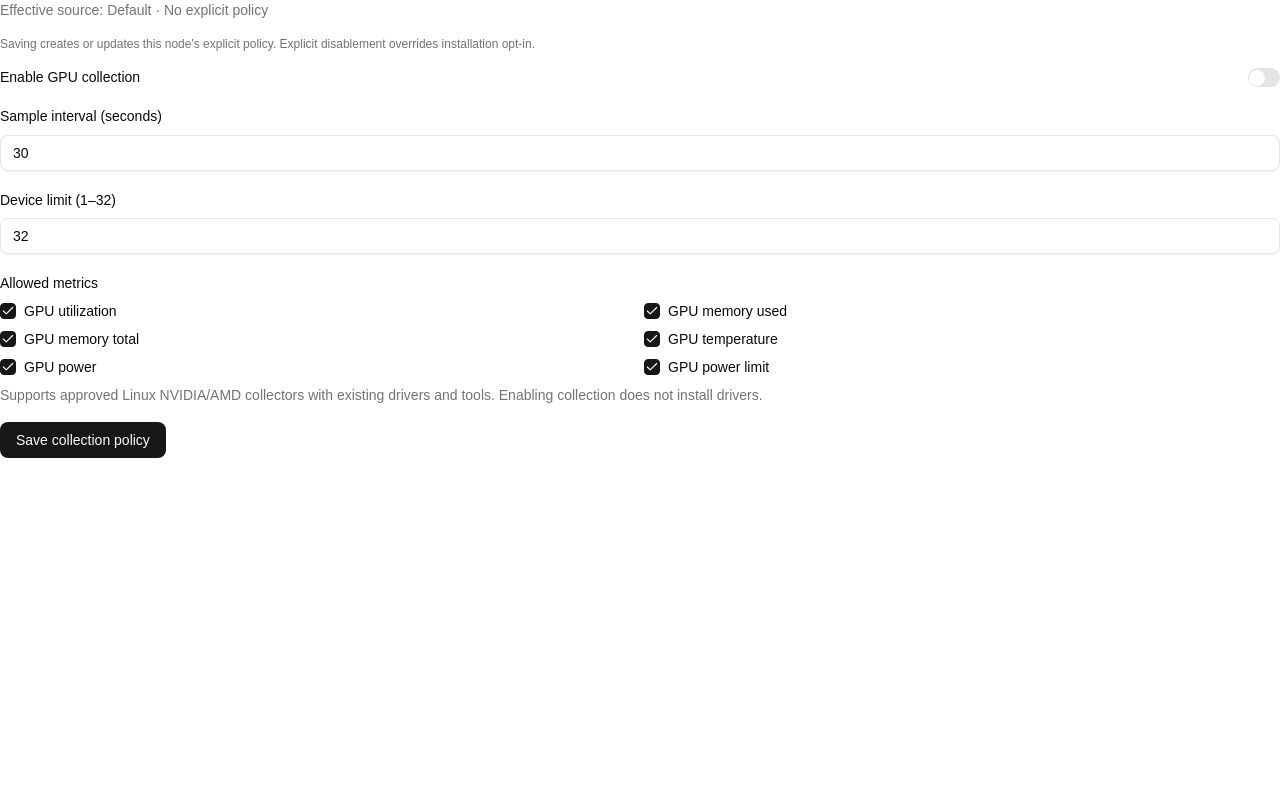
Test: GPU administrative collection and inventory › shows conflicts and rejects invalid numeric policies before a request
Replace the text in the number field labelled "Sample interval (seconds)" with "4": (640,152) x1=0 y1=134 x2=1279 y2=170
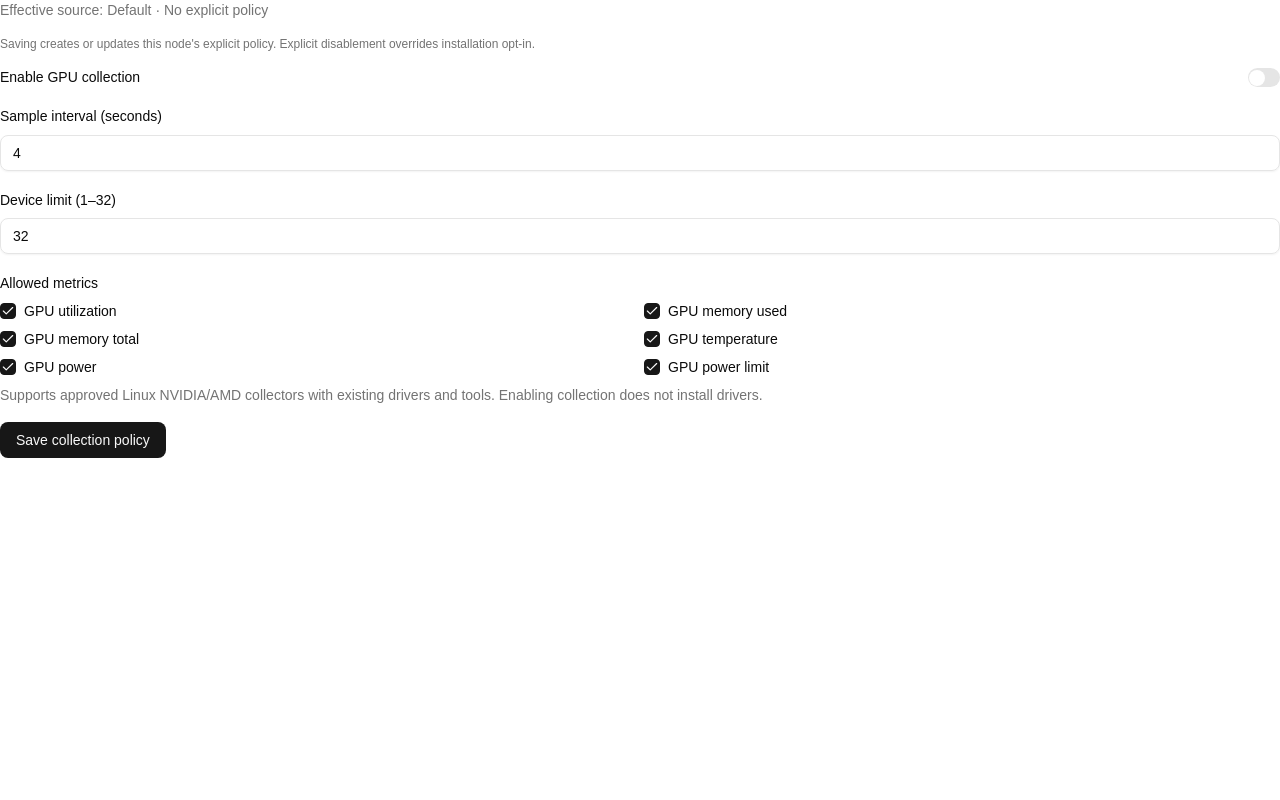
Submit the form named "Save collection policy", box x1=0 y1=0 x2=1279 y2=458
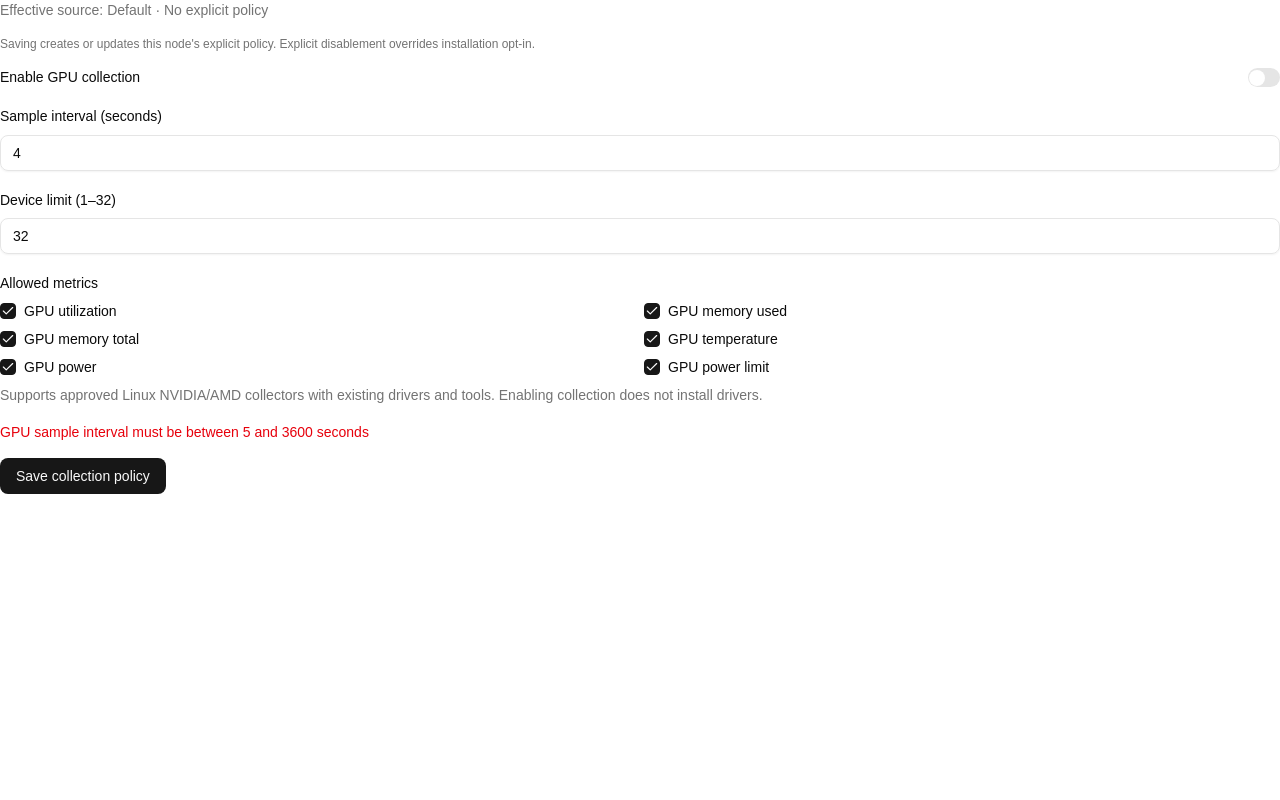
Now the message shows "5 and 3600", box x1=0 y1=424 x2=369 y2=440
Replace the text in the number field labelled "Sample interval (seconds)" with "5": (640,152) x1=0 y1=134 x2=1279 y2=170
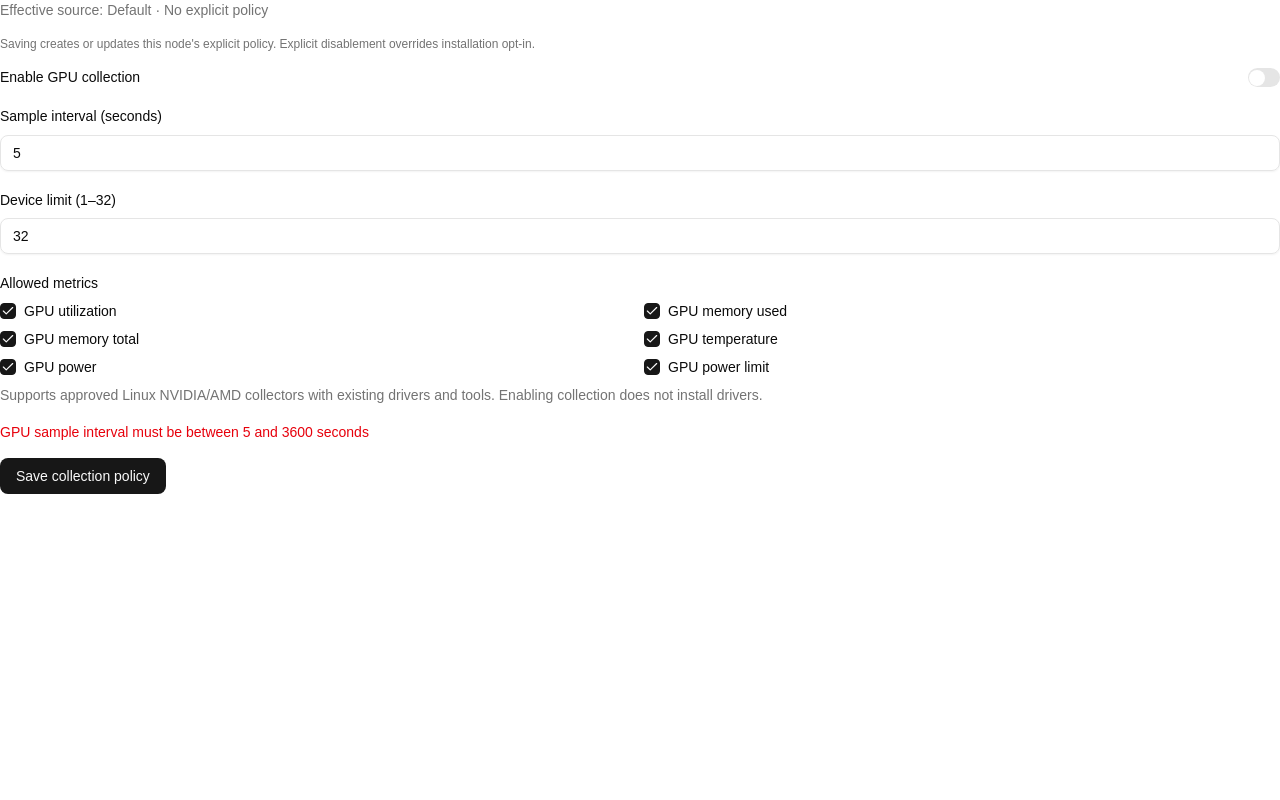
Click the button "Save collection policy": (83,476) x1=0 y1=458 x2=166 y2=494
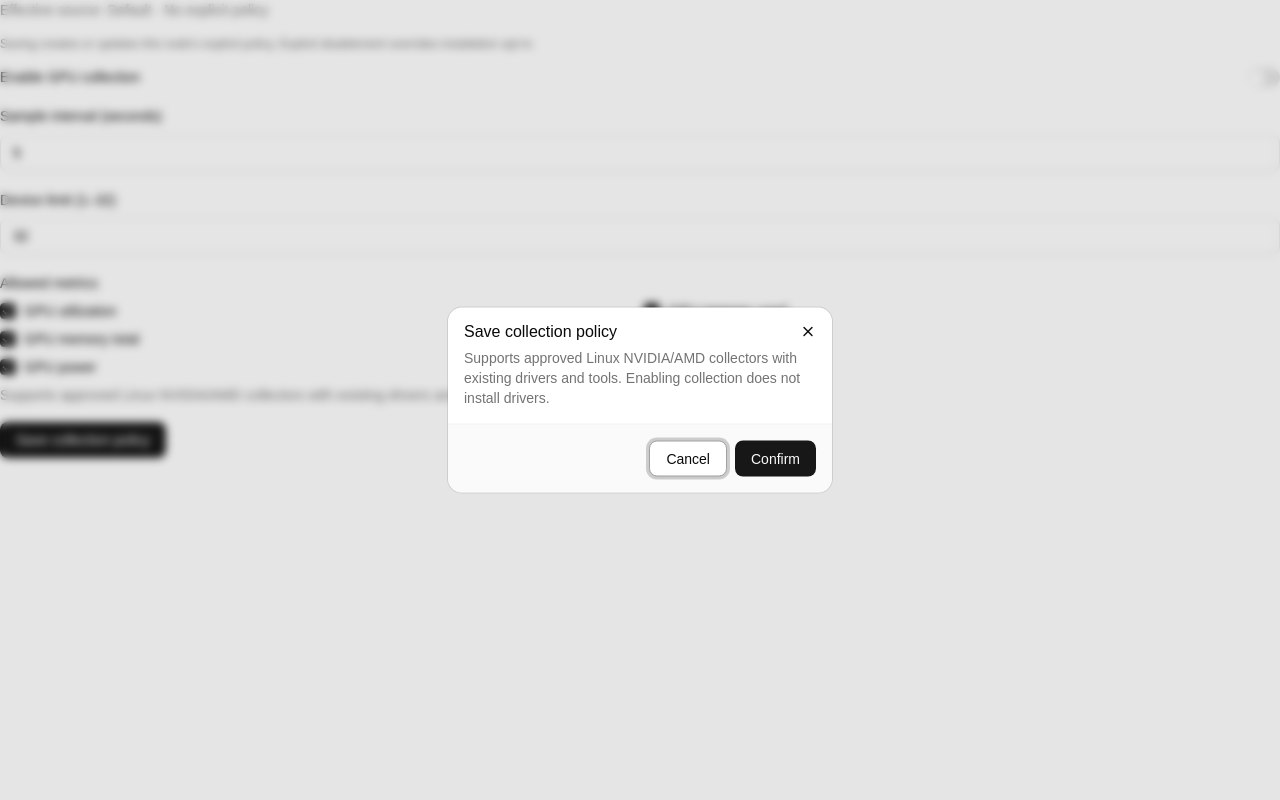
Click the button "Confirm": (776,458) x1=735 y1=440 x2=816 y2=476
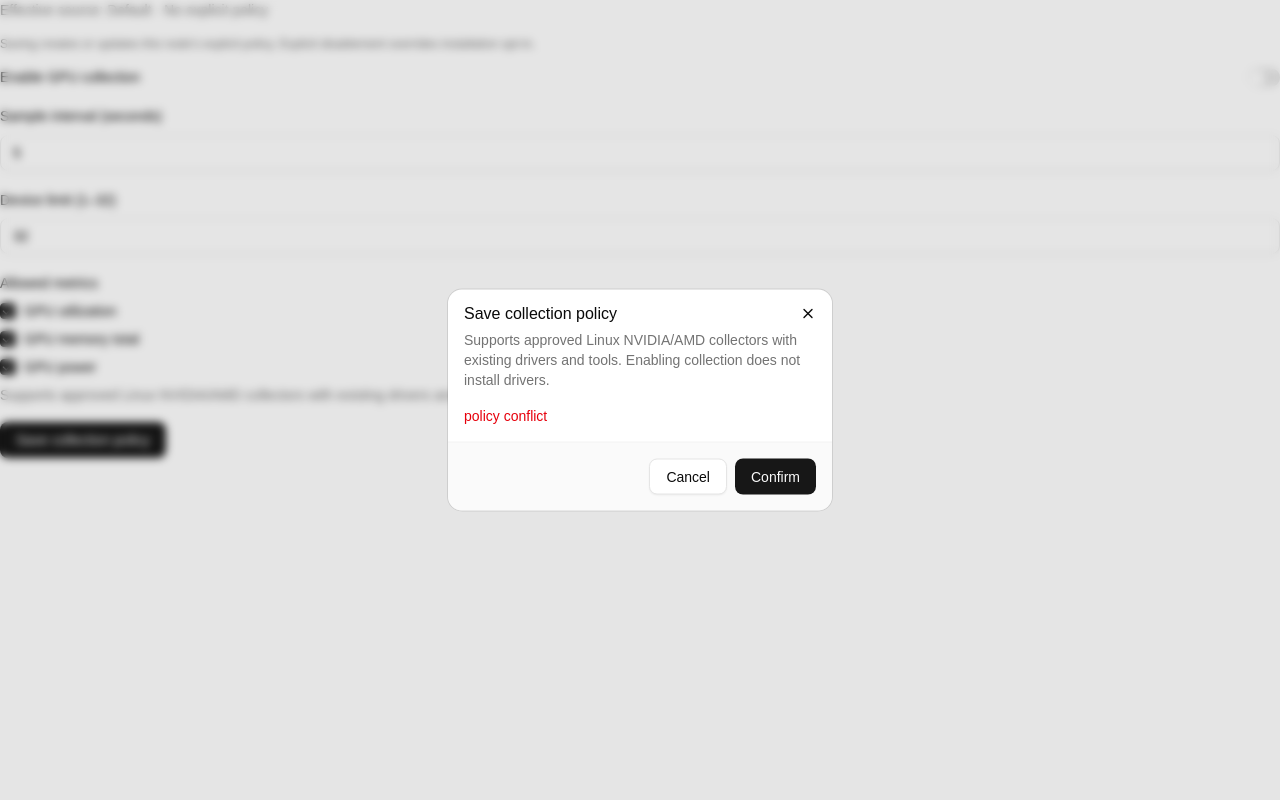
Now the message reads "policy conflict", box x1=464 y1=408 x2=547 y2=424
